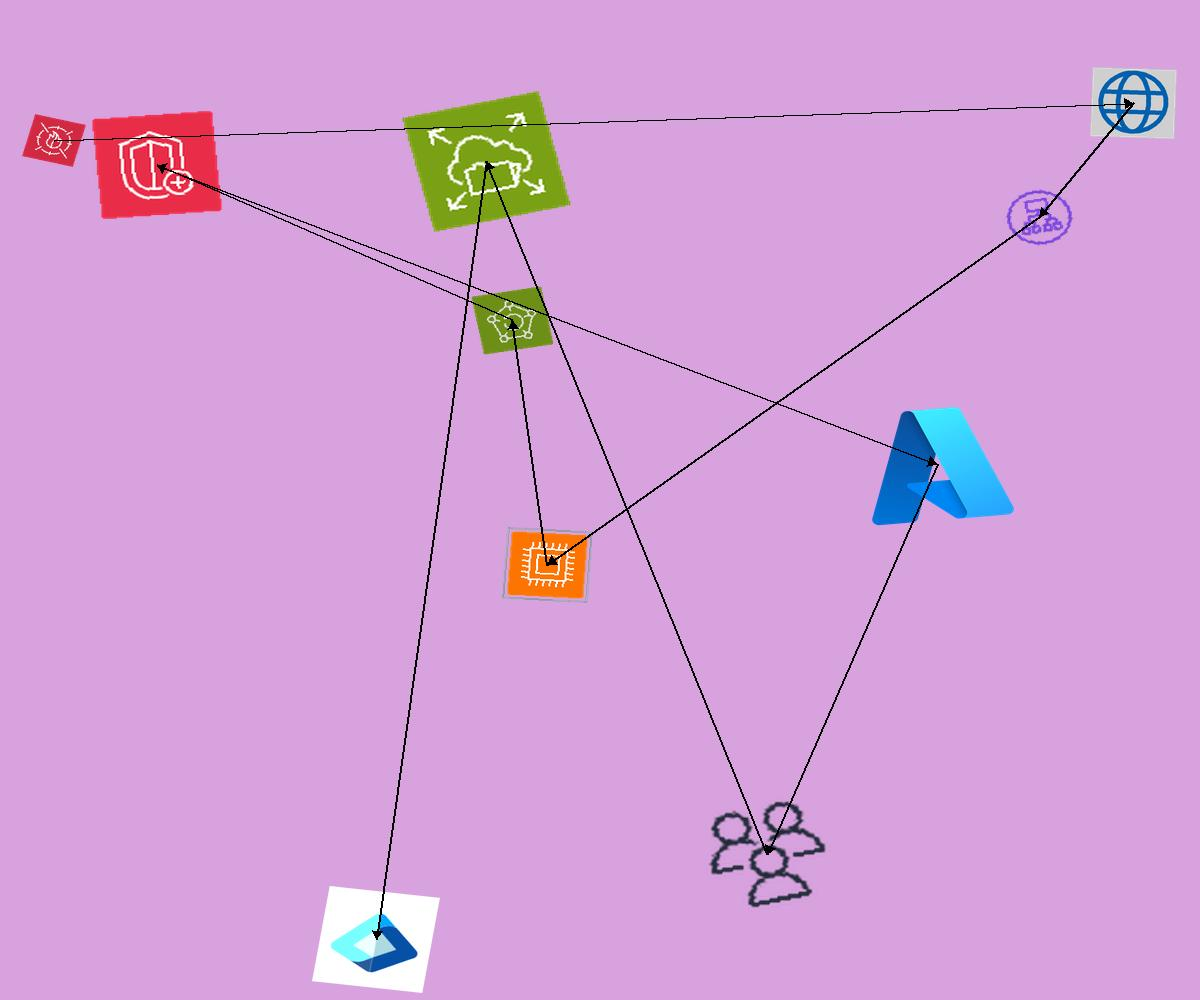AWS-Backup: (471, 286, 554, 355)
AWS-Category_Compute: (502, 527, 593, 603)
AWS-EFS: (401, 90, 572, 233)
AWS-Res_Elastic-Load-Balancing_Application-Load-Balancer: (997, 182, 1082, 253)
AWS-Res_Users: (688, 789, 846, 920)
AWS-Shield: (91, 110, 223, 220)
AWS-WAF: (22, 114, 86, 167)
Azure_http: (1090, 67, 1177, 139)
Azure_microsoft_entra: (312, 886, 440, 993)
Azure_services: (852, 394, 1022, 535)
